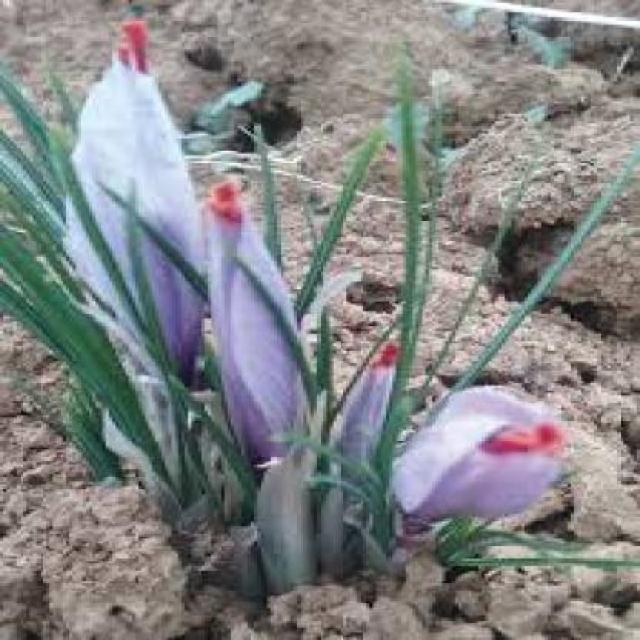Flower: (77, 37, 212, 394), (205, 175, 324, 502), (384, 378, 564, 551)
